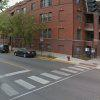Crosswalk: (0, 66, 88, 94)
